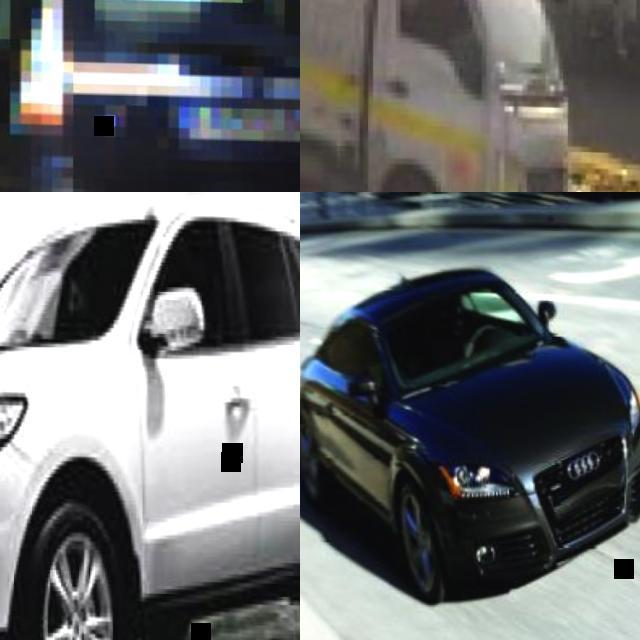car: (2, 189, 311, 632), (300, 240, 639, 600), (292, 0, 572, 198)
